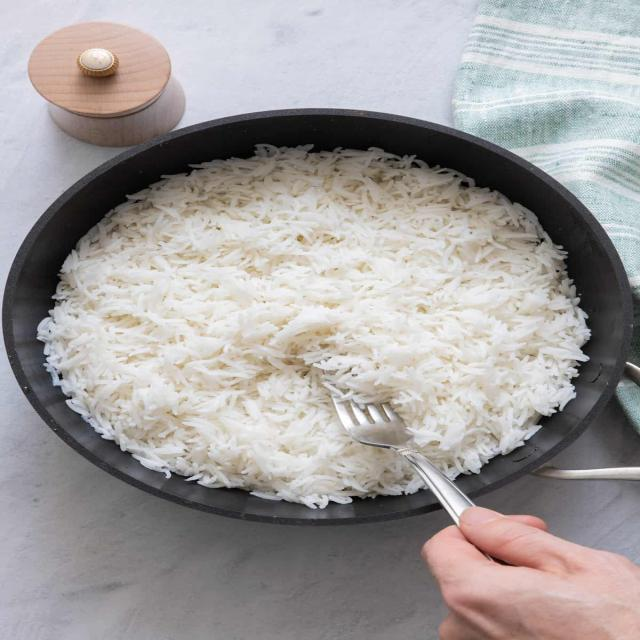rice: (55, 150, 586, 501)
